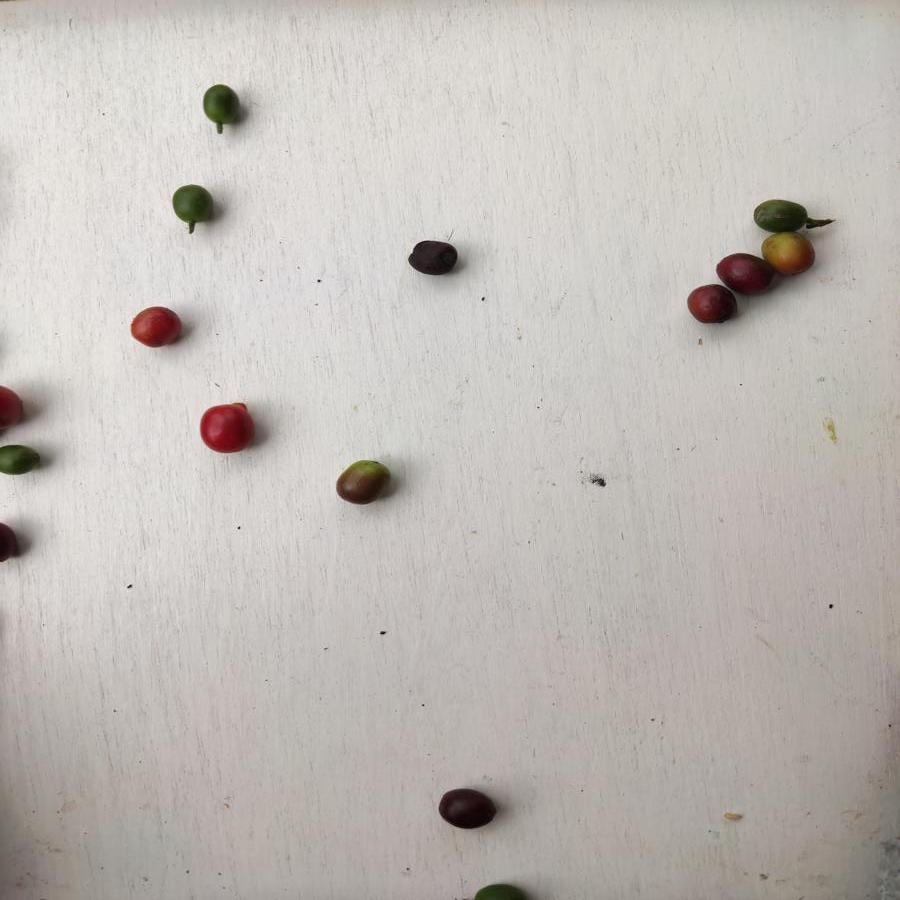Inmaduro: (750, 198, 809, 234), (169, 182, 216, 226), (201, 83, 239, 126), (1, 442, 42, 478)
Maduro: (196, 401, 255, 456), (128, 305, 186, 348)
Pinton: (332, 458, 391, 508), (765, 235, 817, 277)
Sobremaduro: (433, 786, 497, 833), (406, 236, 460, 277), (715, 250, 765, 292), (687, 282, 735, 323)
